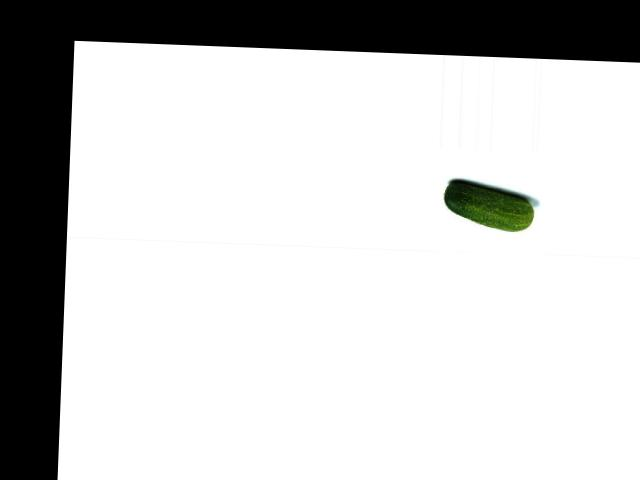cucumber: (443, 180, 534, 231)
